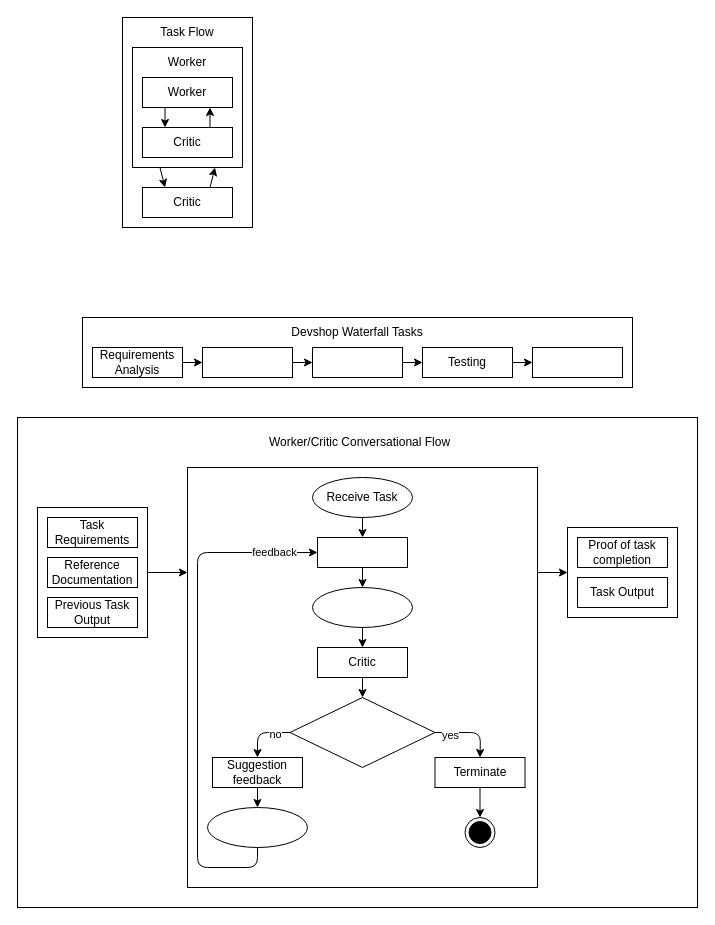
The diagram is 715 pixels wide and 925 high, and some of its shapes have lost their labels. The centre of each missing label's shape, as x and y in pixels:
Agent: point (362, 552)
Attempt task completion: point (362, 607)
Attempted task meets task requirements?: point (362, 732)
Generate suggestions: point (257, 827)
Implementation: point (357, 362)
Maintenance: point (577, 362)
System Design: point (247, 362)
